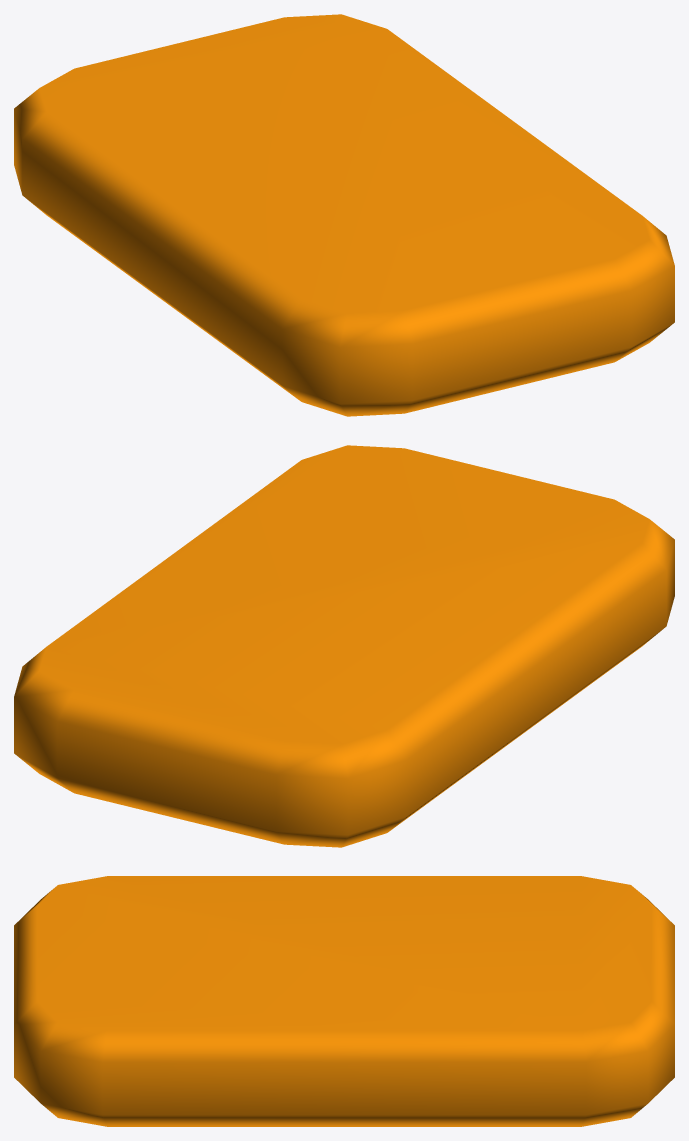
Rendered from Gold_Ingot_02.obj.
3 views of the same model, one above another, from view 1: azimuth 30°, elevation 25°; view 2: azimuth 150°, elevation 25°; view 3: azimuth 270°, elevation 25° (orthographic). The views are drawn at different scales.
Visible parts, largest first — view 1: Gold_Ingot_02; view 2: Gold_Ingot_02; view 3: Gold_Ingot_02.
Part boxes in pixels (x1,y1,x2,y2): Gold_Ingot_02: [14, 14, 674, 416]; Gold_Ingot_02: [14, 445, 674, 847]; Gold_Ingot_02: [14, 876, 674, 1126].
Size of the model in its own units: 0.118 by 0.0304 by 0.1889.
1 material, 1 textured.
